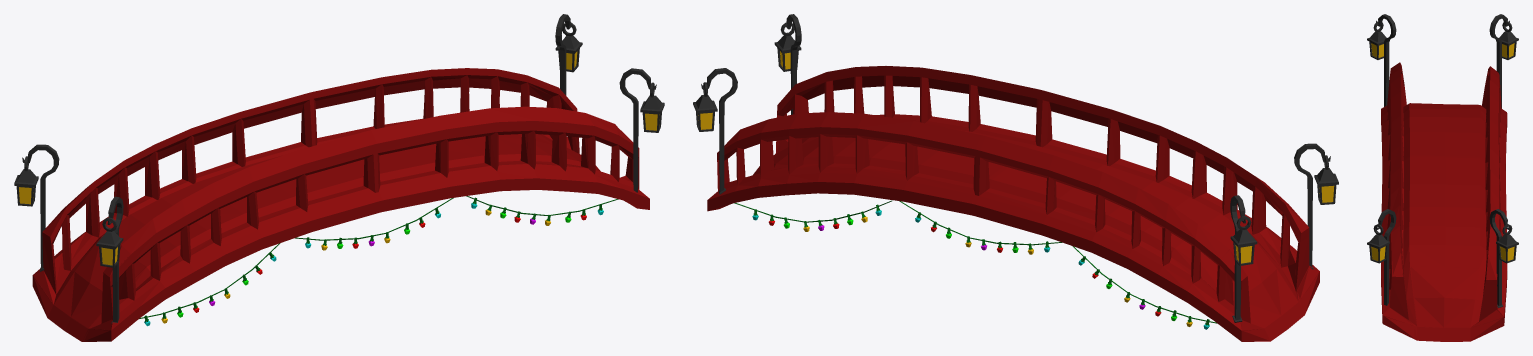
File: Bridge.obj
3 renders of one model, left to right at view 1: azimuth 30°, elevation 25°; view 2: azimuth 150°, elevation 25°; view 3: azimuth 270°, elevation 25°, orthographic. The views are drawn at different scales.
Visible parts, largest first — view 1: Object796, Light_hook008, Light_hook006, Light_hook005, Light_hook007, Decor_light062, Decor_light063, Decor_light060; view 2: Object796, Light_hook007, Light_hook005, Light_hook006, Light_hook008, Decor_light064, Decor_light061, Decor_light059; view 3: Object796, Light_hook007, Light_hook008, Light_hook006, Light_hook005.
Part boxes in pixels (x1,y1,x2,y2): Object796: (32, 68, 649, 341); Light_hook008: (619, 68, 664, 192); Light_hook006: (96, 196, 123, 323); Light_hook005: (14, 144, 59, 271); Light_hook007: (555, 14, 582, 95); Decor_light062: (295, 198, 453, 250); Decor_light063: (466, 196, 618, 225); Decor_light060: (139, 243, 280, 326); Object796: (707, 66, 1319, 341); Light_hook007: (693, 68, 737, 194); Light_hook005: (1230, 195, 1257, 322); Light_hook006: (1294, 143, 1338, 269); Light_hook008: (774, 14, 801, 114); Decor_light064: (734, 200, 892, 231); Decor_light061: (899, 201, 1062, 254); Decor_light059: (1072, 246, 1216, 329); Object796: (1381, 62, 1507, 341); Light_hook007: (1489, 209, 1518, 307); Light_hook008: (1367, 209, 1396, 305); Light_hook006: (1367, 14, 1396, 106); Light_hook005: (1489, 14, 1518, 108).
Size of the model in its own units: 15.74 by 4.23 by 4.71.
